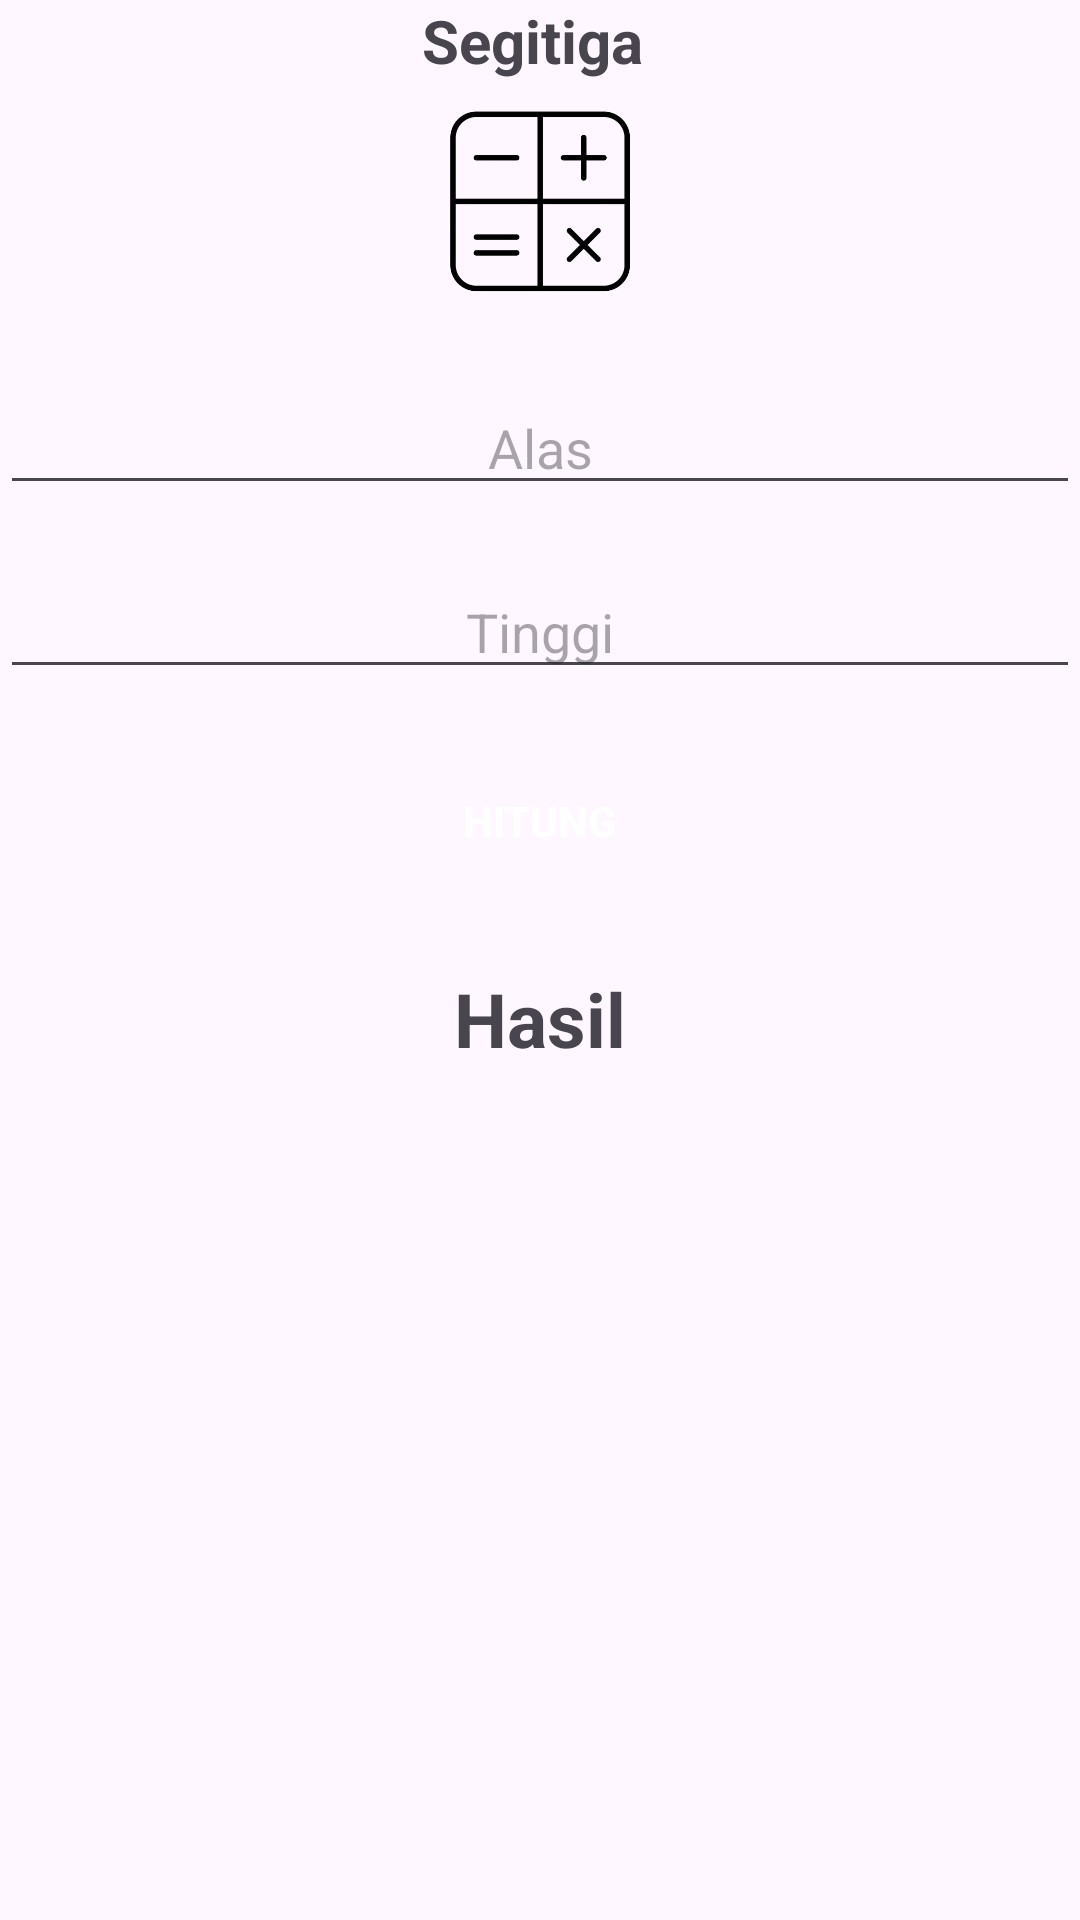

Named icons in this screenshot (1080px x 1920px) and their bounding boxes, (x1, y1, x2, y2):
calculator: (450, 111, 630, 291)
